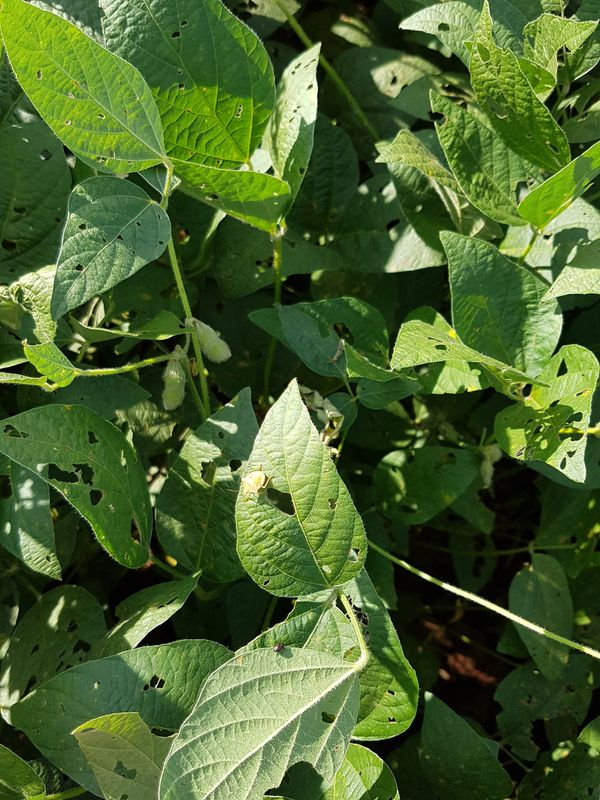Euschistus_heros_ninfa: (230, 462, 280, 506)
